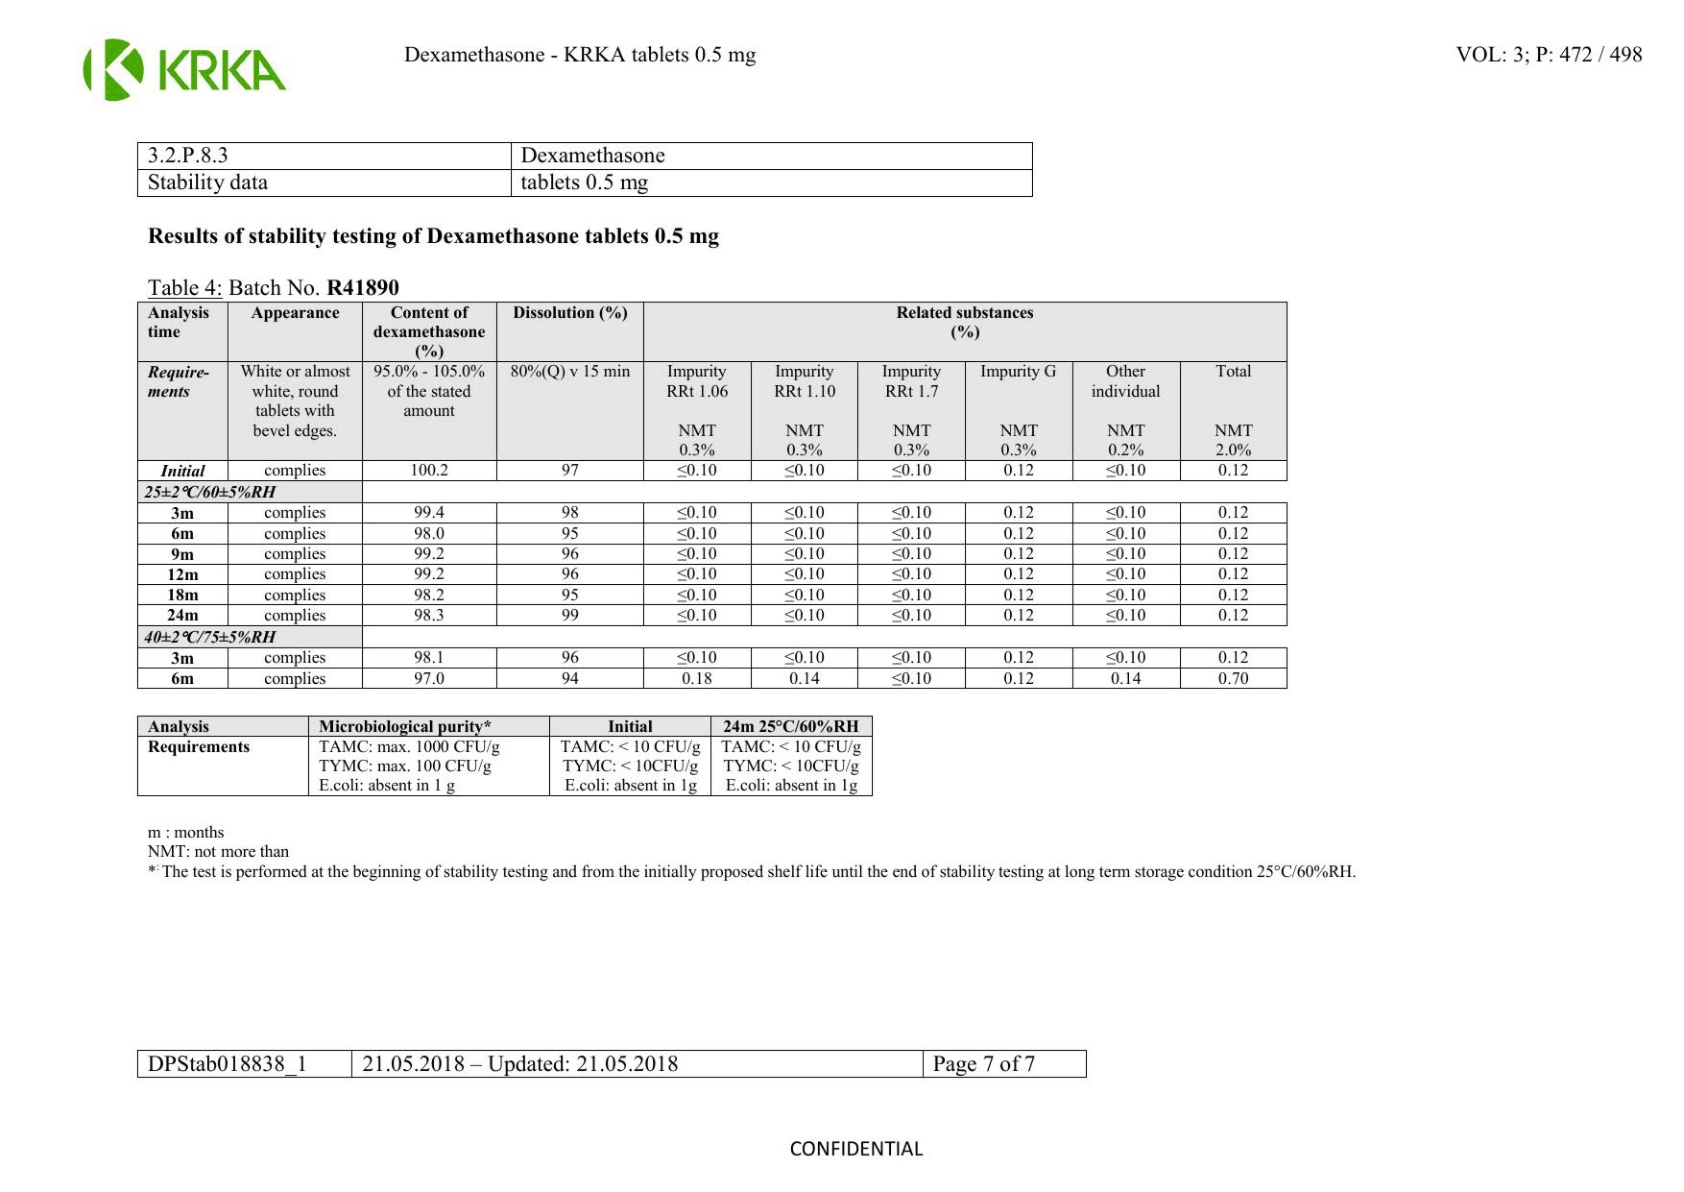full_lined: (135, 713, 874, 797), (135, 141, 1034, 197), (135, 1049, 1088, 1078)
partial_lined_merged_cells: (135, 301, 1289, 690)
